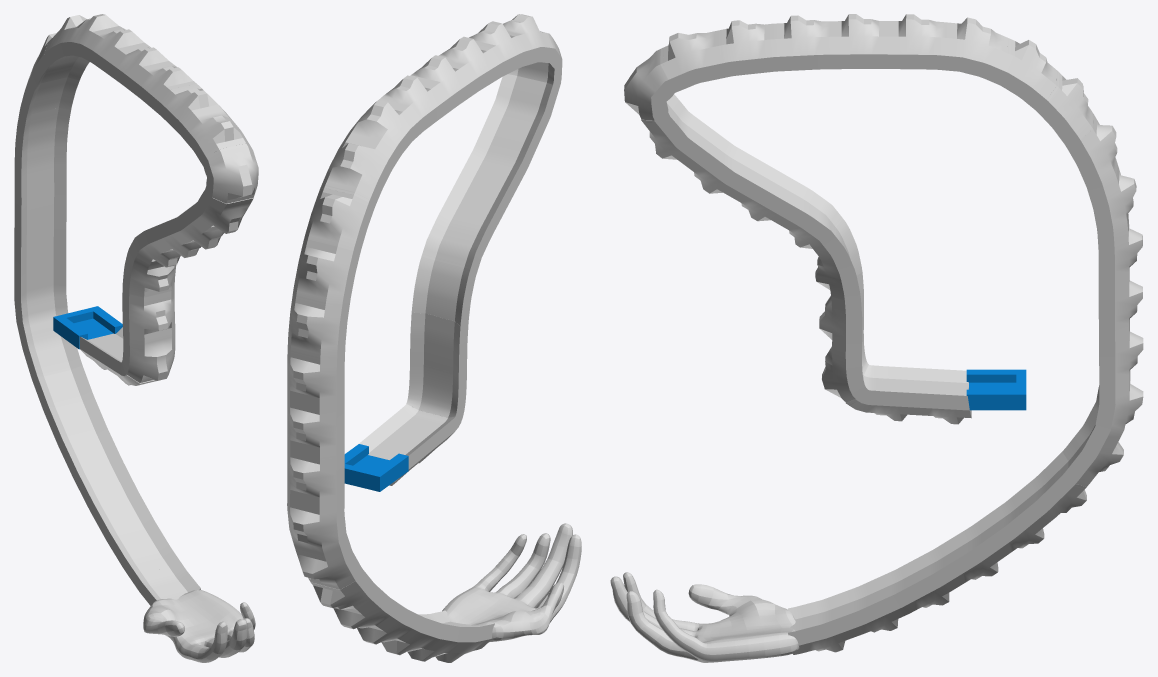
Rendered from level design 3.1.fbx.
The picture shows the model from 3 angles, left to right: view 1: azimuth 30°, elevation 25°; view 2: azimuth 150°, elevation 25°; view 3: azimuth 270°, elevation 25°; orthographic projection. The views are drawn at different scales.
Visible parts, largest first — view 1: Plane, Plane.001, Cube.008; view 2: Plane, Plane.001, Cube.008; view 3: Plane, Plane.001, Cube.008.
Part boxes in pixels (<box>): Plane: <box>14,14,258,605</box>; Plane.001: <box>143,590,255,662</box>; Cube.008: <box>53,306,122,349</box>; Plane: <box>287,14,562,662</box>; Plane.001: <box>442,523,581,642</box>; Cube.008: <box>344,444,408,491</box>; Plane: <box>624,14,1143,654</box>; Plane.001: <box>610,572,799,662</box>; Cube.008: <box>966,369,1026,410</box>.
Size of the model in its own units: 3.9 by 23.7 by 17.86.
